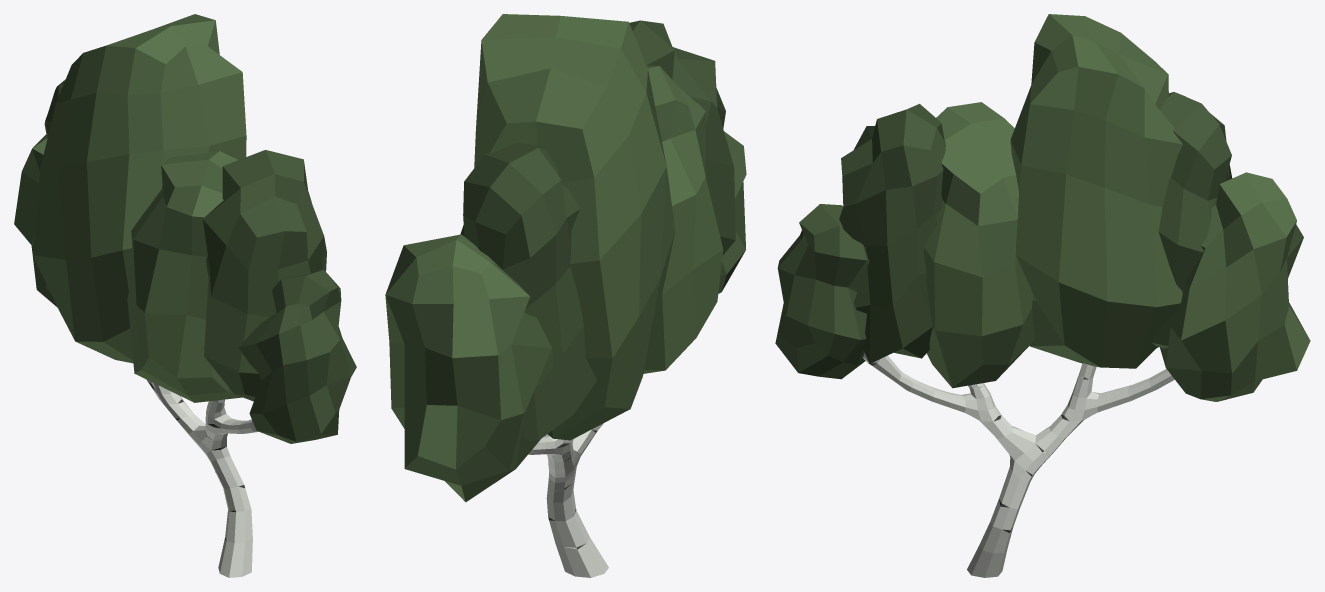
The model's file is birchtree_4.glb.
3 views of the same model, side by side, from view 1: azimuth 30°, elevation 25°; view 2: azimuth 150°, elevation 25°; view 3: azimuth 270°, elevation 25° (orthographic). The views are drawn at different scales.
Parts seen in each view (by area): view 1: BirchTree_4; view 2: BirchTree_4; view 3: BirchTree_4.
Boxes of the visible parts, x1,y1,x2,y2 form: BirchTree_4: (14, 14, 356, 577); BirchTree_4: (385, 14, 746, 577); BirchTree_4: (775, 14, 1310, 577).
Bounding box in the file's own units: 2.77 × 8.54 × 7.89.
